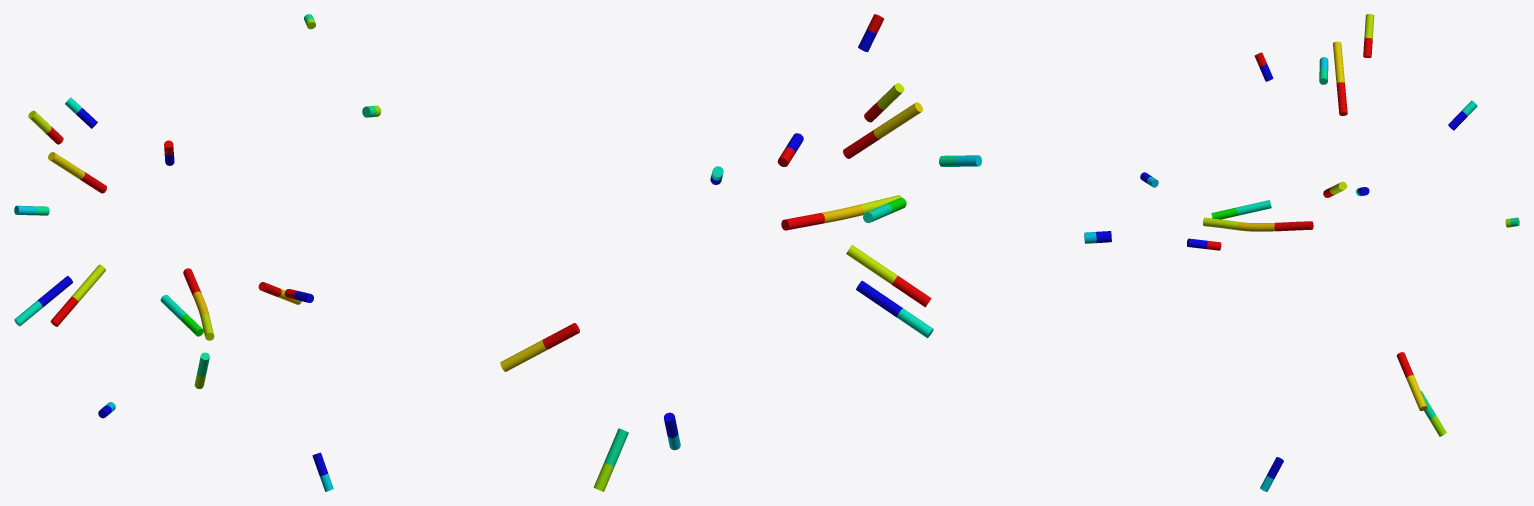
The model's file is ribbon-rainbow.glb.
3 renders of one model, left to right at view 1: azimuth 30°, elevation 25°; view 2: azimuth 150°, elevation 25°; view 3: azimuth 270°, elevation 25°, orthographic. The views are drawn at different scales.
Visible parts, largest first — view 1: ribbons; view 2: ribbons; view 3: ribbons.
Boxes of the visible parts, <box> form: ribbons: <box>14,14,333,491</box>; ribbons: <box>362,14,1111,491</box>; ribbons: <box>1140,14,1519,491</box>.
Bounding box in the file's own units: 20.56 × 18.89 × 17.58.
